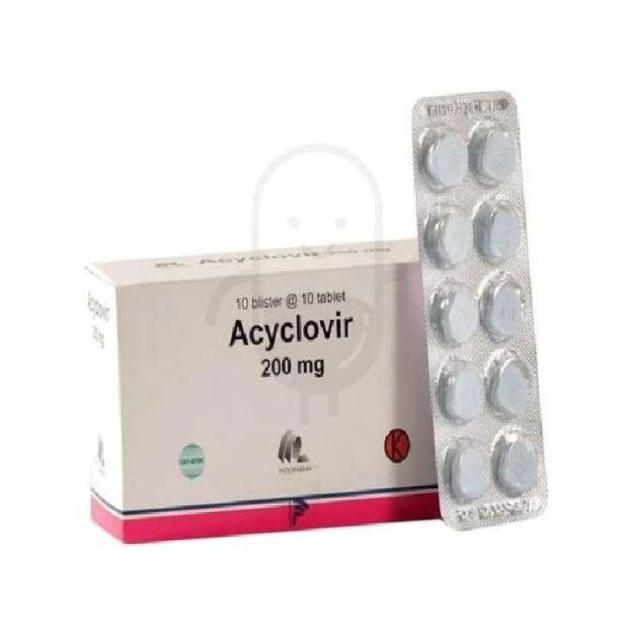drug-name: (230, 310, 358, 350)
